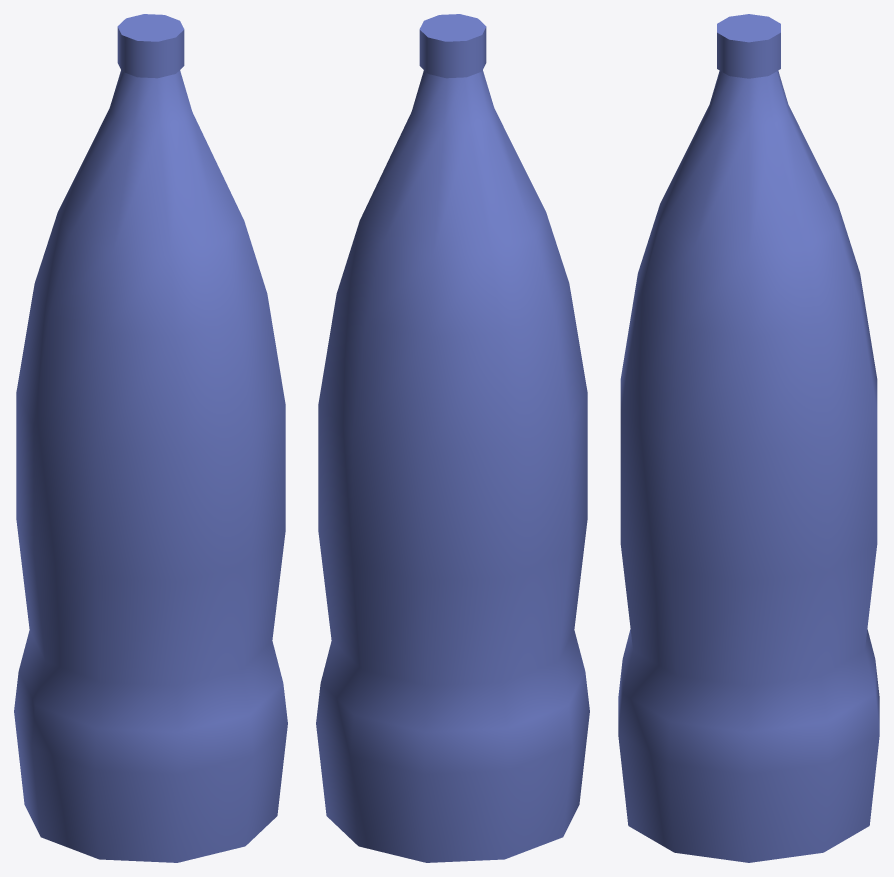
Rendered from Gaseosa 1.fbx.
3 views of the same model, side by side, from view 1: azimuth 30°, elevation 25°; view 2: azimuth 150°, elevation 25°; view 3: azimuth 270°, elevation 25° (orthographic).
Parts seen in each view (by area): view 1: Gaseosa_2; view 2: Gaseosa_2; view 3: Gaseosa_2.
Part boxes in pixels (bbox=[...]): Gaseosa_2: bbox=[14, 14, 287, 862]; Gaseosa_2: bbox=[316, 14, 589, 862]; Gaseosa_2: bbox=[618, 14, 879, 862].
Bounding box in the file's own units: 0.00381 × 0.0119 × 0.00362.
